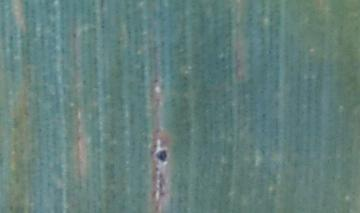tarspot: (154, 148, 168, 163), (80, 78, 88, 88), (260, 111, 267, 120), (151, 78, 159, 85), (7, 34, 14, 42), (70, 31, 76, 39)
